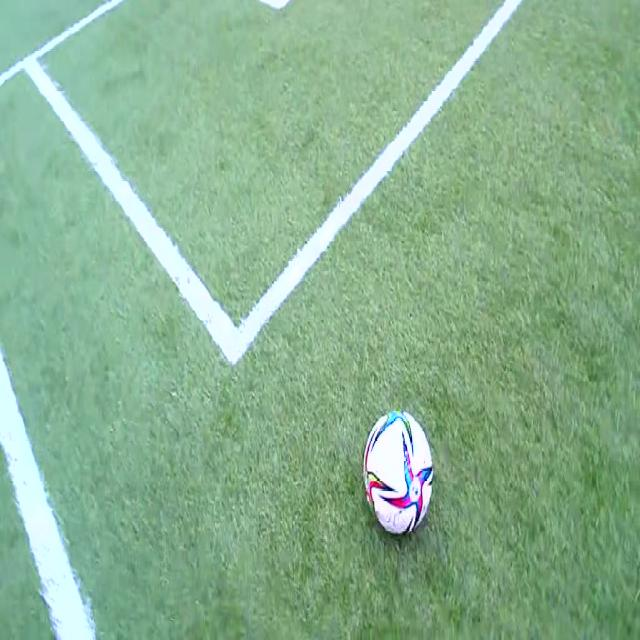ball: (364, 410, 433, 533)
